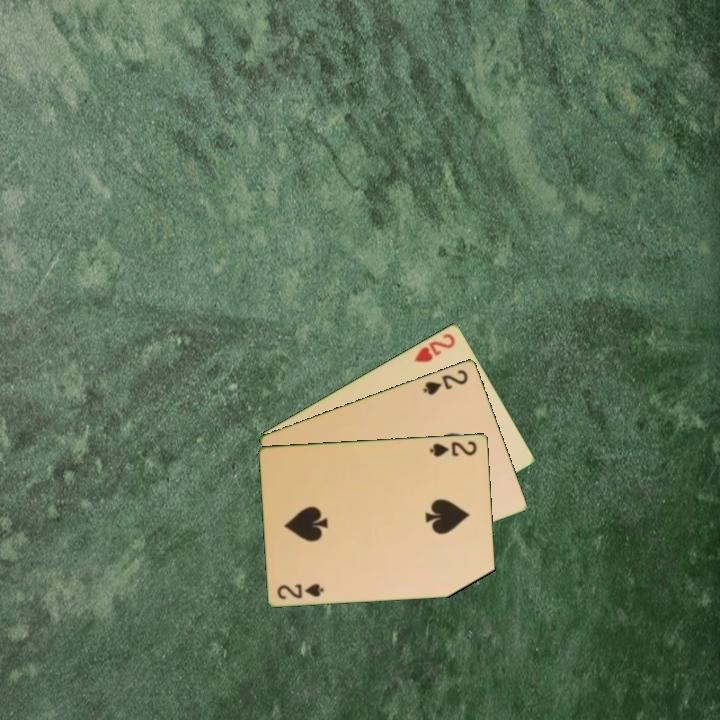2h: (410, 329, 458, 365)
2s: (419, 366, 471, 398), (426, 437, 480, 459), (274, 580, 327, 602)
